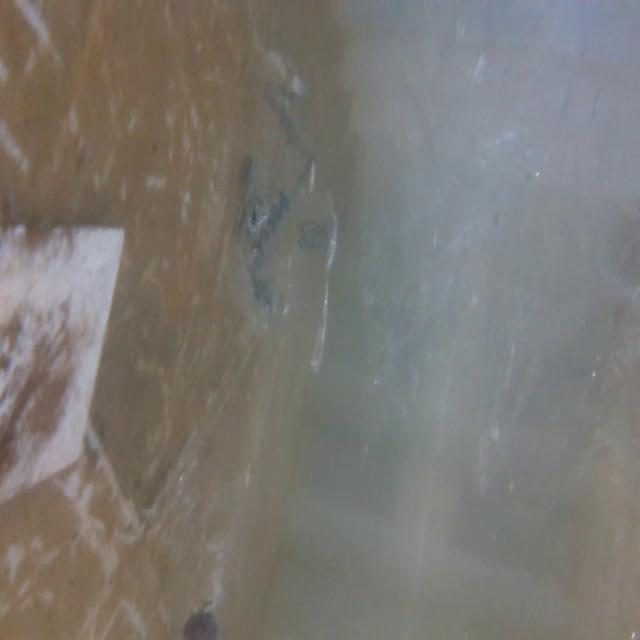metal: (0, 224, 143, 498)
plastic bags: (408, 0, 640, 465), (221, 41, 340, 379)
plastic bottle: (163, 393, 262, 640)
